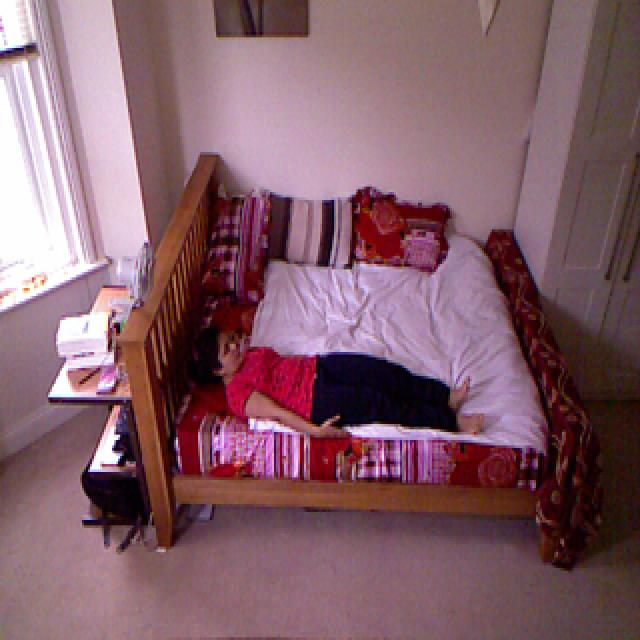lying: (190, 324, 490, 443)
